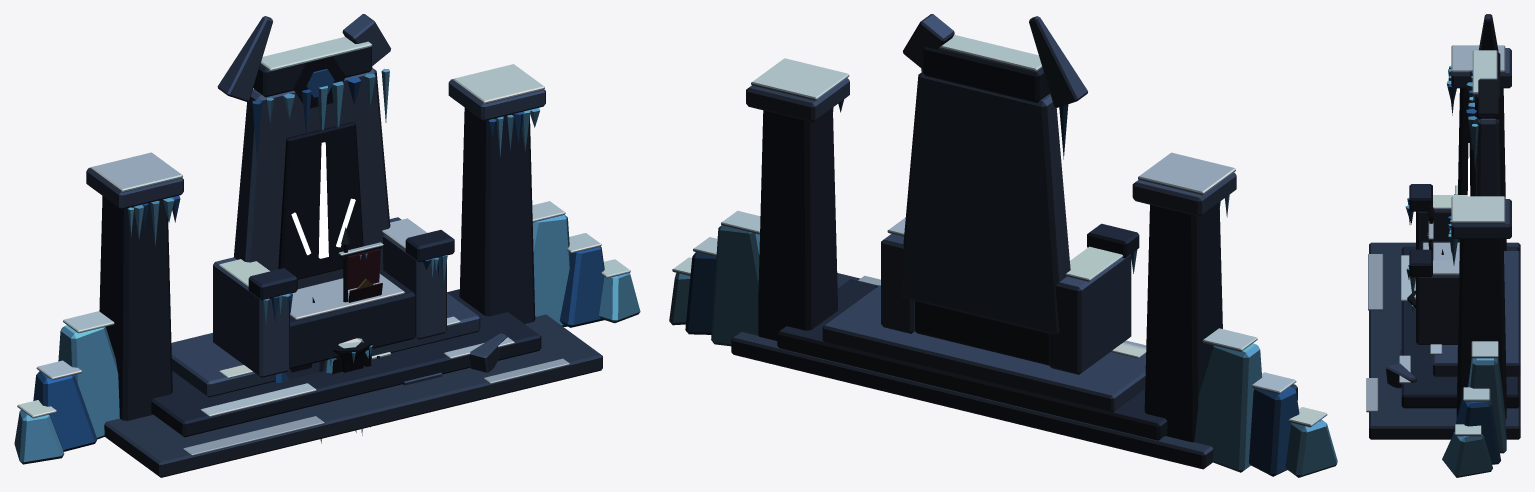
File: frost_kit_components.glb
The picture shows the model from 3 angles, left to right: view 1: azimuth 30°, elevation 25°; view 2: azimuth 150°, elevation 25°; view 3: azimuth 270°, elevation 25°; orthographic projection. The views are drawn at different scales.
Parts seen in each view (by area): view 1: Kit_FrozenThrone, Kit_FrozenBanner, Kit_FrozenRuin, Kit_DeadBrazier; view 2: Kit_FrozenThrone; view 3: Kit_FrozenThrone, Kit_FrozenBanner.
Part boxes in pixels (x1,y1,x2,y2): Kit_FrozenThrone: (14,14,640,477); Kit_FrozenBanner: (338,227,383,302); Kit_FrozenRuin: (273,352,442,385); Kit_DeadBrazier: (329,338,372,370); Kit_FrozenThrone: (669,14,1337,477); Kit_FrozenThrone: (1366,14,1520,477); Kit_FrozenBanner: (1427,202,1435,259).
Size of the model in its own units: 36.31 by 22.96 by 9.15.
